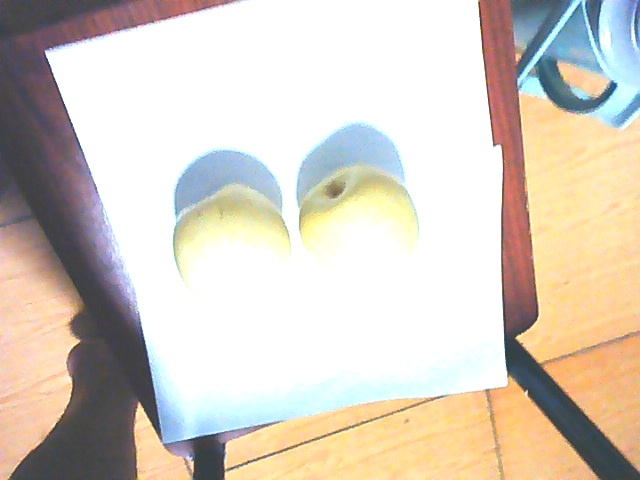pear: (164, 179, 293, 299), (298, 167, 421, 277)
